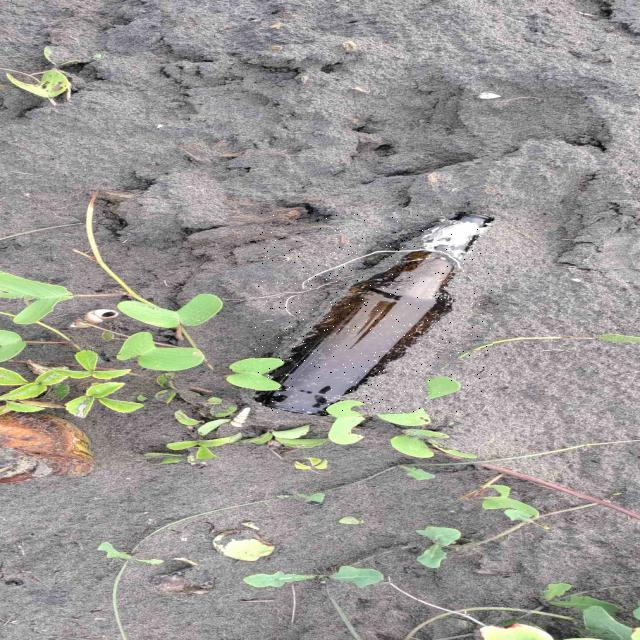glass: (255, 213, 493, 414)
